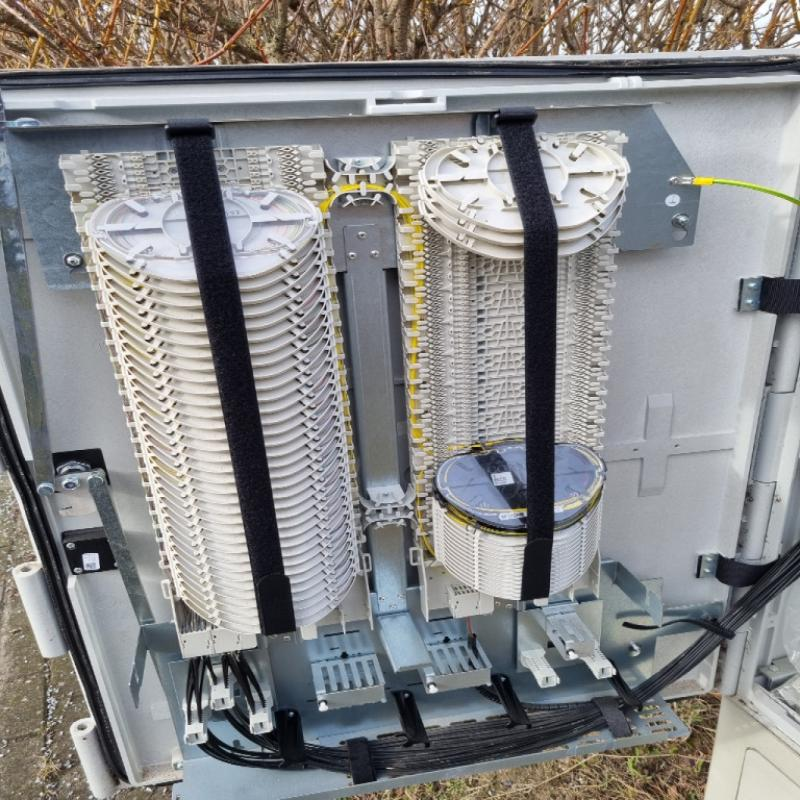NT-Gehause: (1, 47, 800, 800)
Spleiskassetten: (52, 138, 375, 654), (384, 122, 633, 625)
